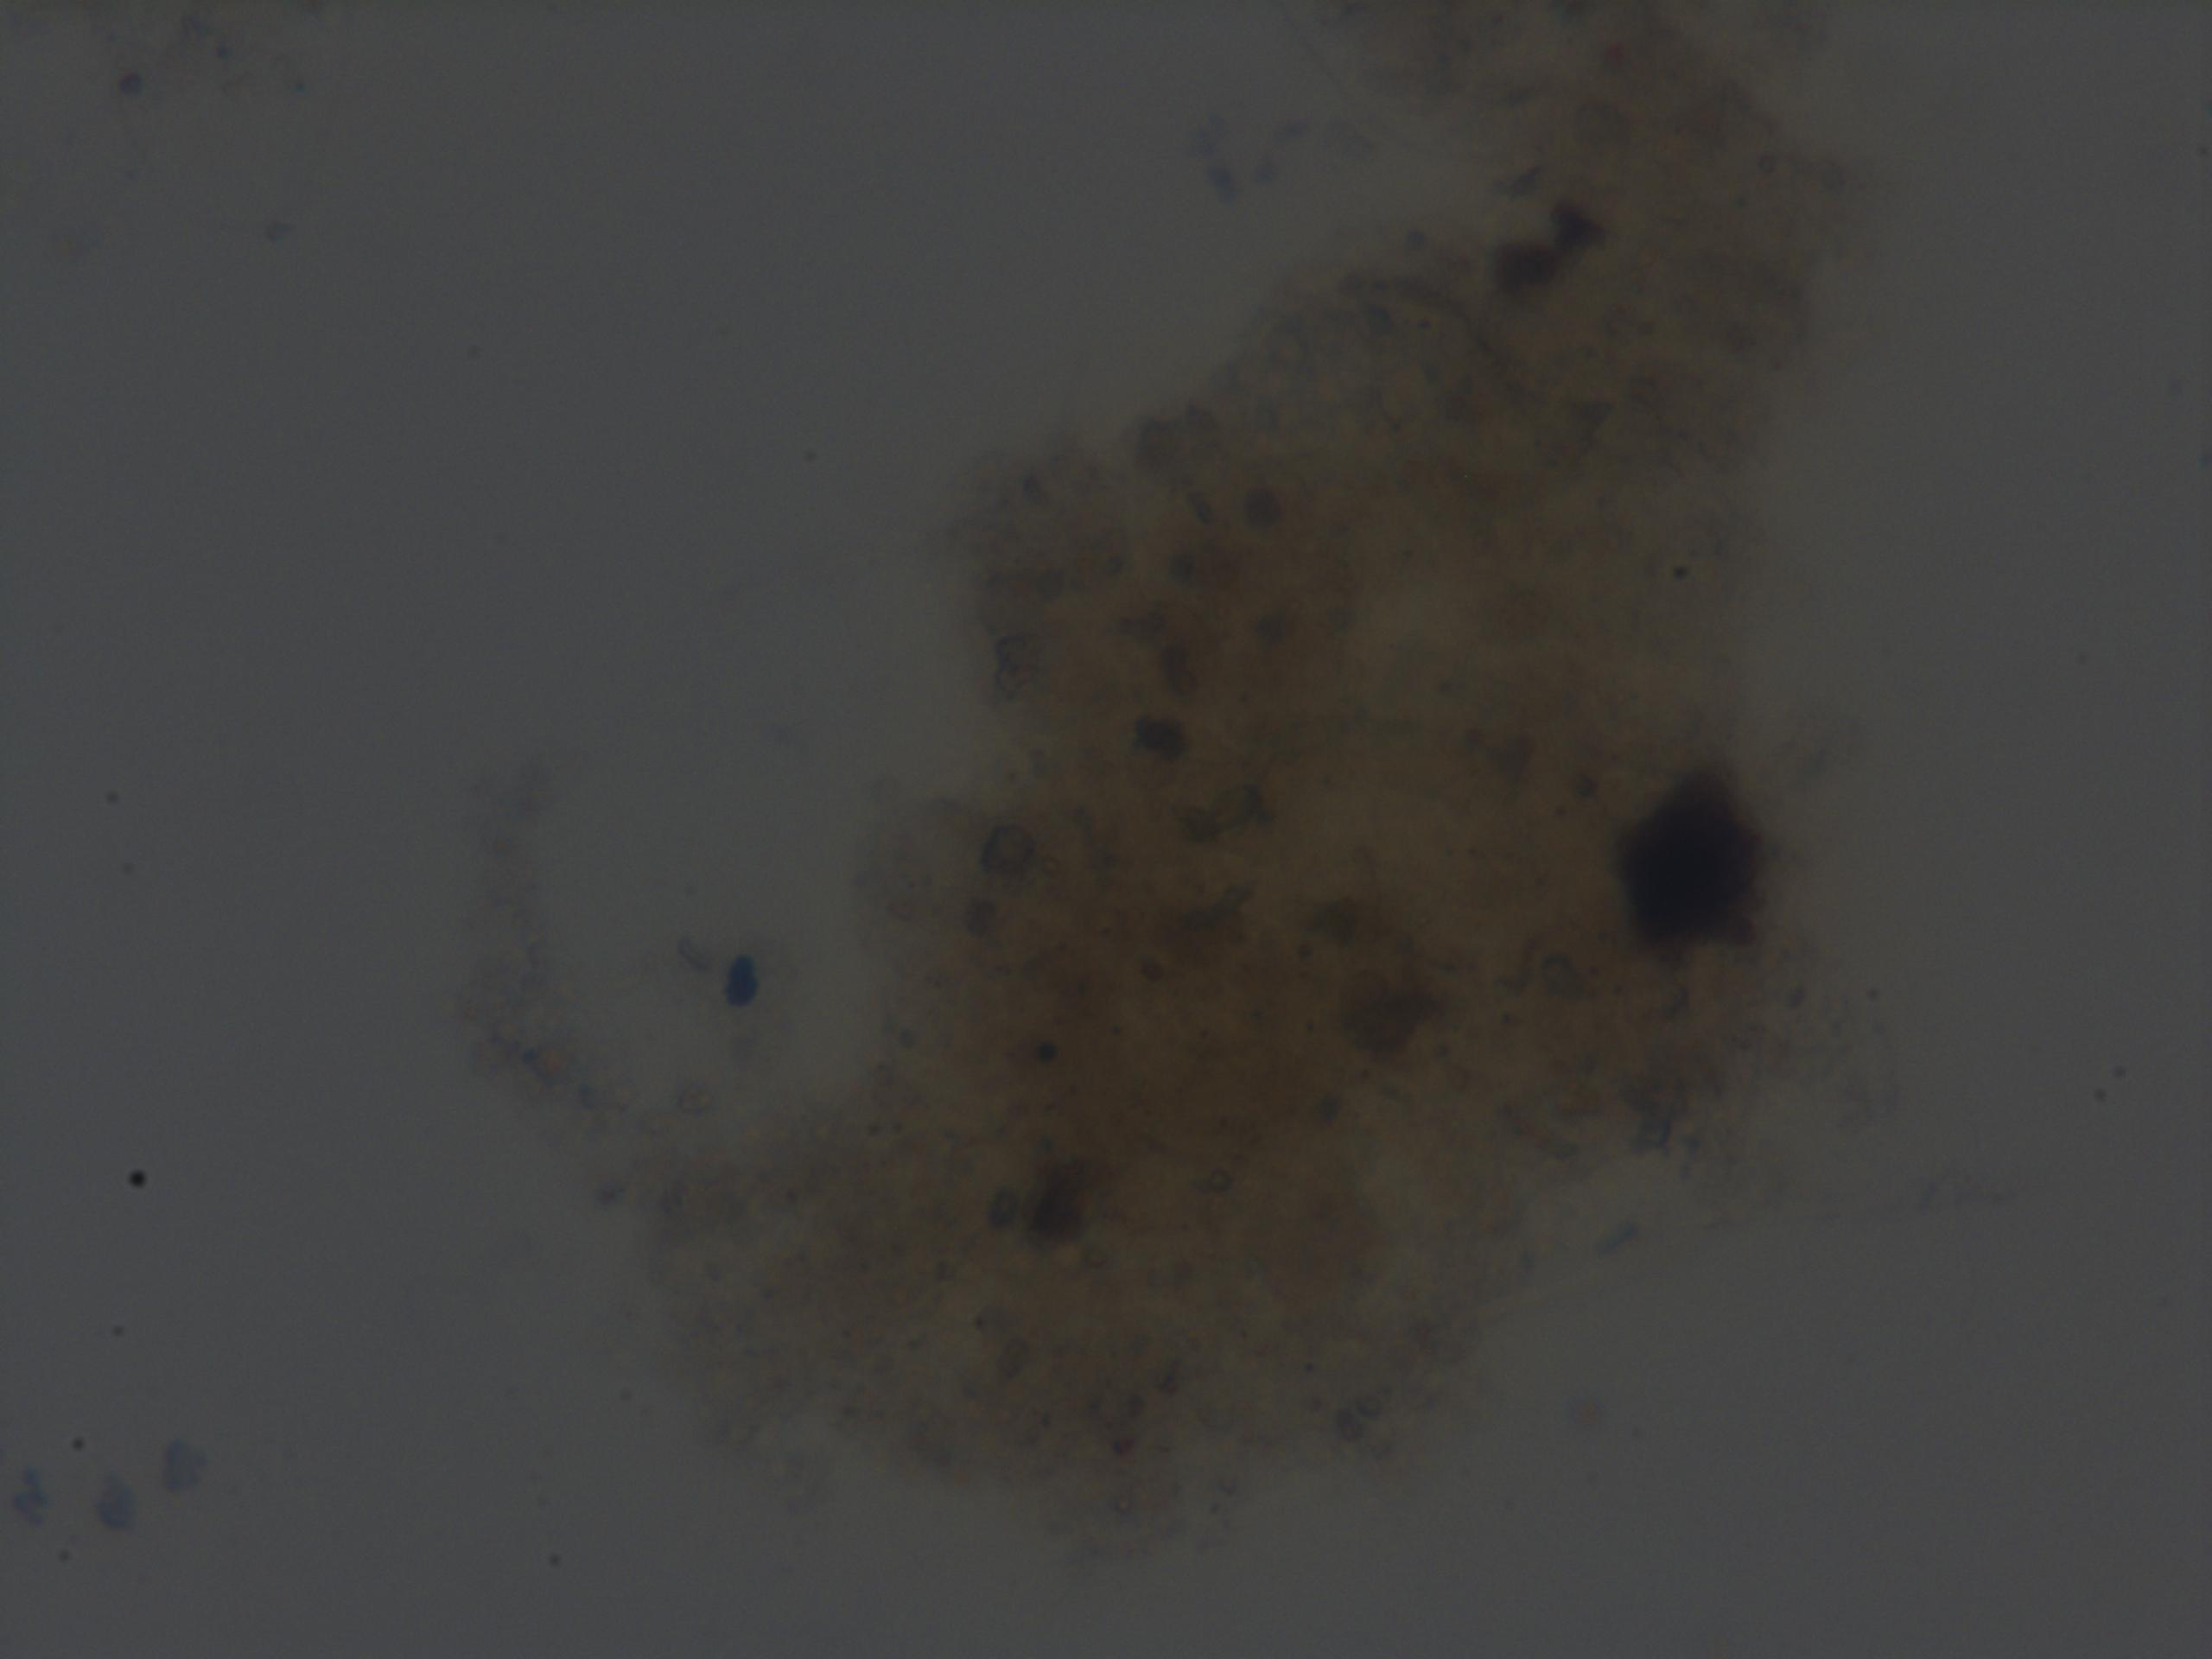spherical_floc: (611, 0, 1871, 1525)
